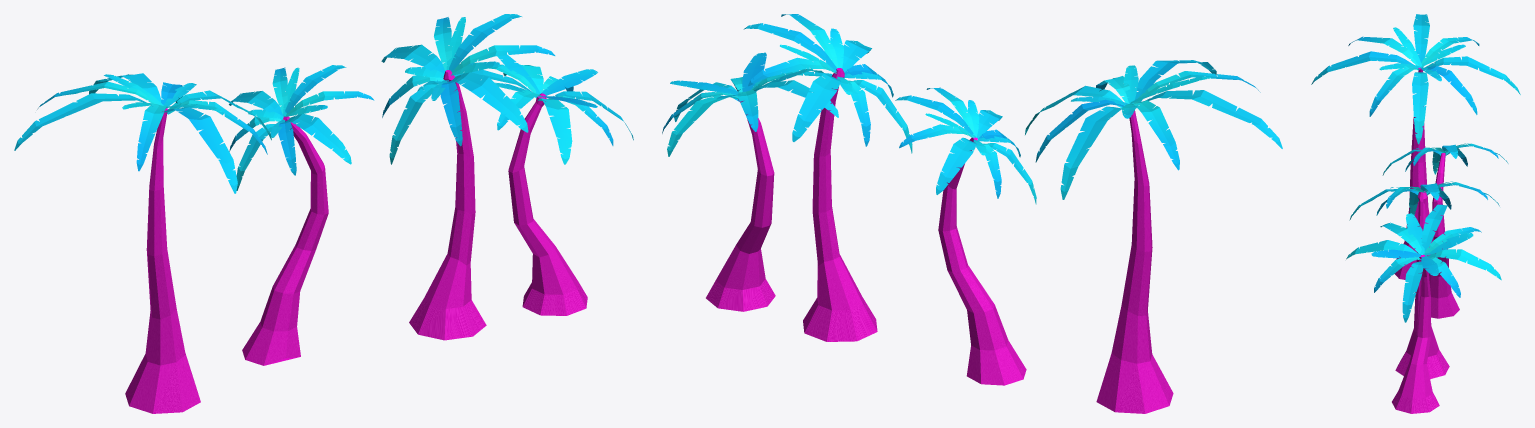
Rendered from palmtreetext.fbx.
3 renders of one model, left to right at view 1: azimuth 30°, elevation 25°; view 2: azimuth 150°, elevation 25°; view 3: azimuth 270°, elevation 25°, orthographic. The views are drawn at different scales.
Parts seen in each view (by area): view 1: Cylinder.002, Plane.023, Cylinder.001, Plane.032, Cylinder.003, Plane.042, Cylinder, Plane.002; view 2: Cylinder.002, Plane.032, Cylinder.001, Plane.023, Cylinder.003, Cylinder, Plane.042, Plane.002; view 3: Plane.032, Plane.002, Cylinder, Cylinder.003, Cylinder.001, Plane.023, Cylinder.002, Plane.042.
Part boxes in pixels (<box>): Cylinder.002: <box>125,108,200,413</box>; Plane.023: <box>381,14,555,164</box>; Cylinder.001: <box>409,70,486,340</box>; Plane.032: <box>14,73,271,193</box>; Cylinder.003: <box>242,116,328,365</box>; Plane.042: <box>229,65,374,190</box>; Cylinder: <box>508,93,587,315</box>; Plane.002: <box>417,54,633,164</box>; Cylinder.002: <box>1096,110,1173,413</box>; Plane.032: <box>1025,60,1282,199</box>; Cylinder.001: <box>803,68,877,341</box>; Plane.023: <box>743,14,912,153</box>; Cylinder.003: <box>938,137,1026,385</box>; Cylinder: <box>706,99,775,311</box>; Plane.042: <box>895,87,1036,204</box>; Plane.002: <box>662,52,838,156</box>; Plane.032: <box>1311,14,1520,144</box>; Plane.002: <box>1346,204,1501,322</box>; Cylinder: <box>1392,254,1439,413</box>; Cylinder.003: <box>1429,153,1459,318</box>; Cylinder.001: <box>1395,191,1449,379</box>; Plane.023: <box>1349,181,1499,220</box>; Cylinder.002: <box>1394,67,1432,279</box>; Plane.042: <box>1382,143,1508,175</box>.
Size of the model in its own units: 1109 by 551 by 467.
8 materials, 8 textured.
